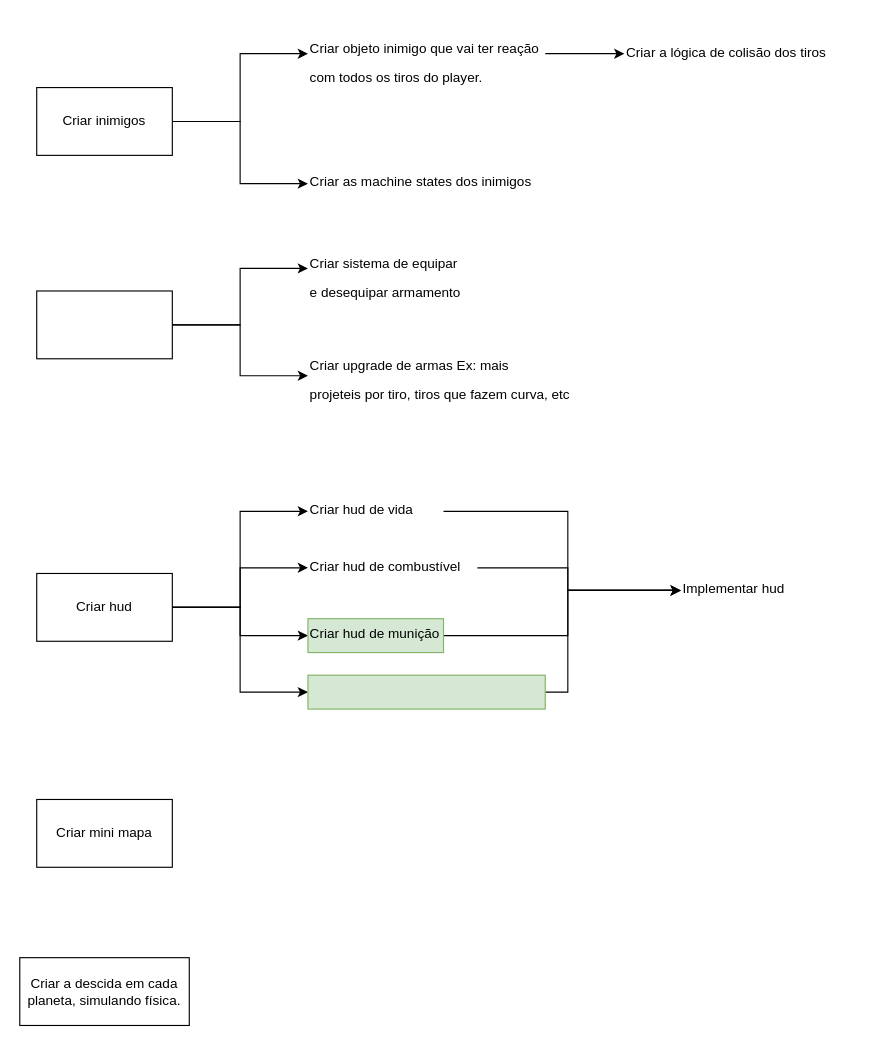
Some shapes in this 893 by 1045 pixel diagram are drawn without their labels. Each missing label, with the centre of its shape:
Criar hud de temperatura da arma: point 426,691
Criar lógica para armamento: point 104,324
